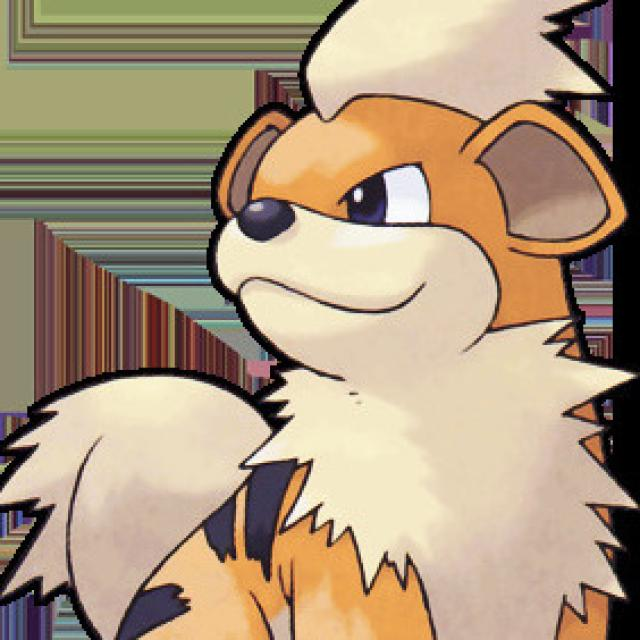Growlithe: (102, 7, 612, 640)
